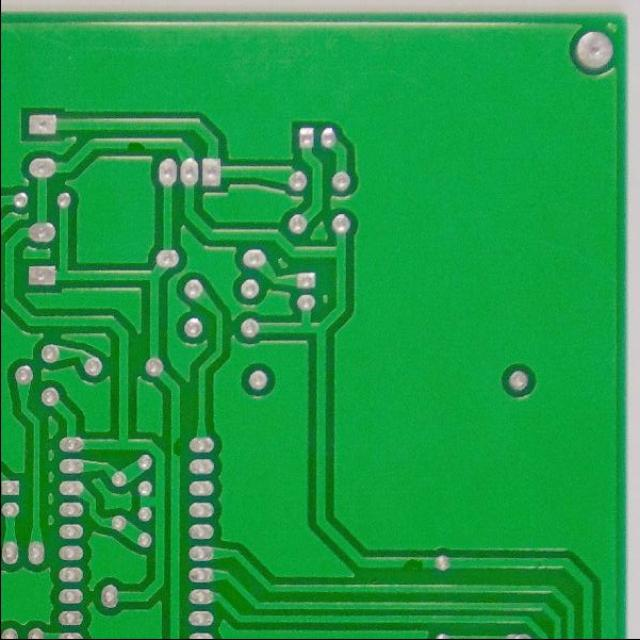mouse_bite: (398, 555, 426, 576), (164, 434, 185, 461), (119, 138, 148, 154)
